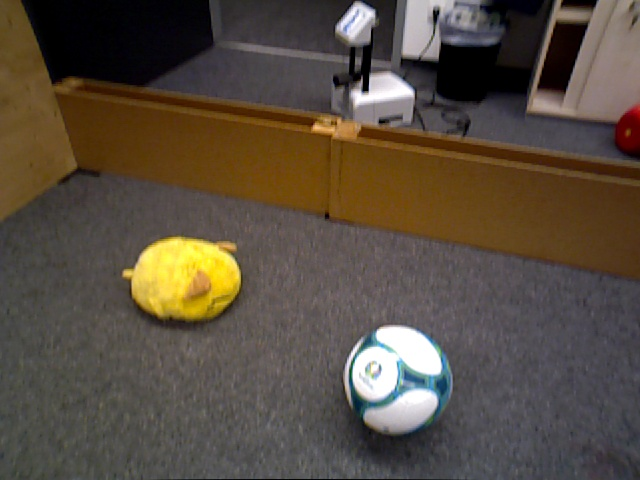grasp: (129, 235, 242, 323)
kick: (341, 324, 455, 436)
